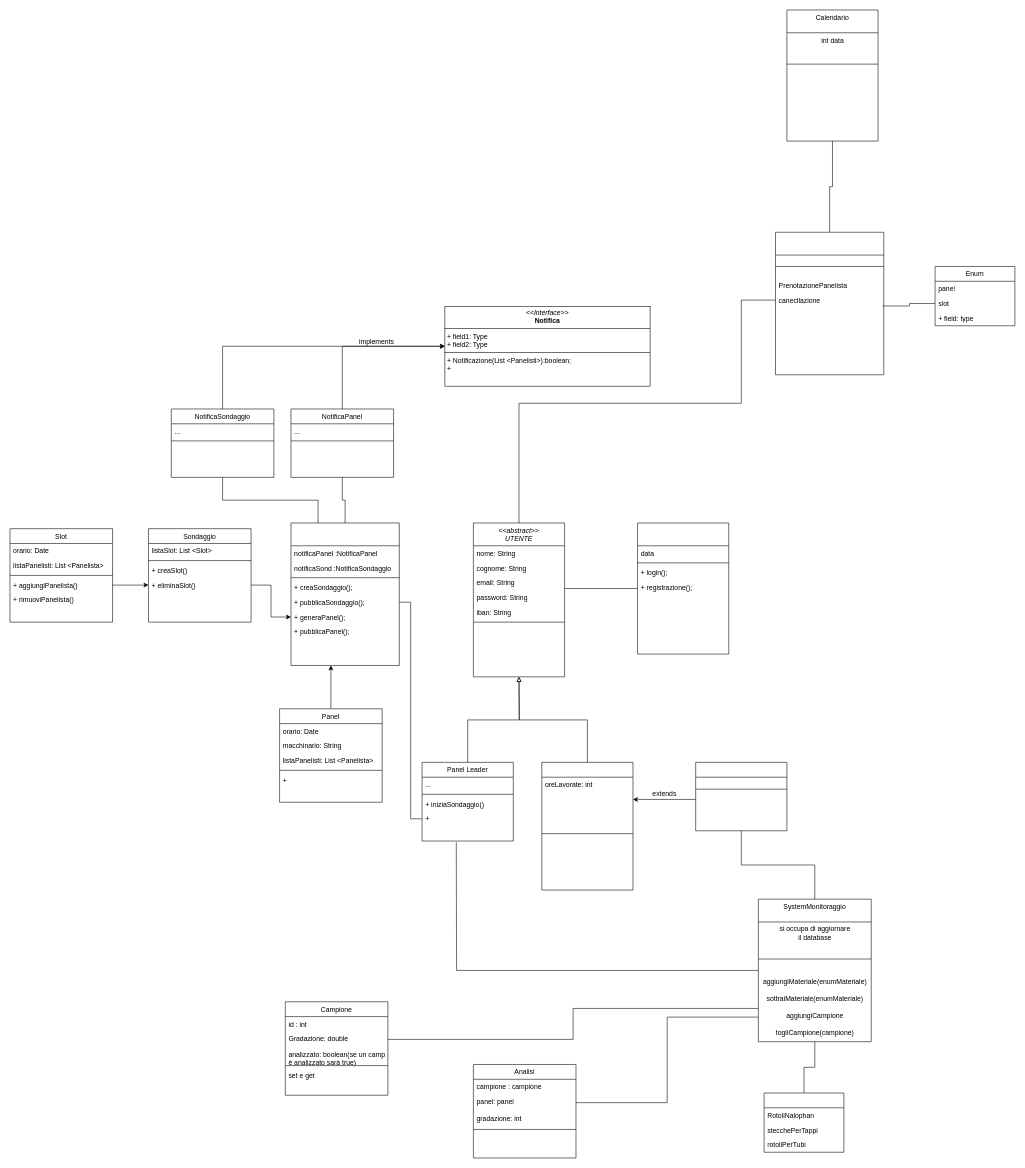
Image size: 1025x1168. Some labels were removed from this diagram. The shapes that lost their labels are listed below. From the top down, each one's box as (x1, y1, x2, y2) in pixels, then its label:
(775, 232, 884, 375): SYSTEM PRENOTAZIONE
(290, 522, 399, 665): SYSTEM PUBB. PANEL
(637, 522, 729, 654): SYSTEM AUTENTICAZIONE
(695, 762, 787, 831): Insaccatore
(541, 762, 633, 890): Panelista
(764, 1092, 844, 1152): EnumMateriale
